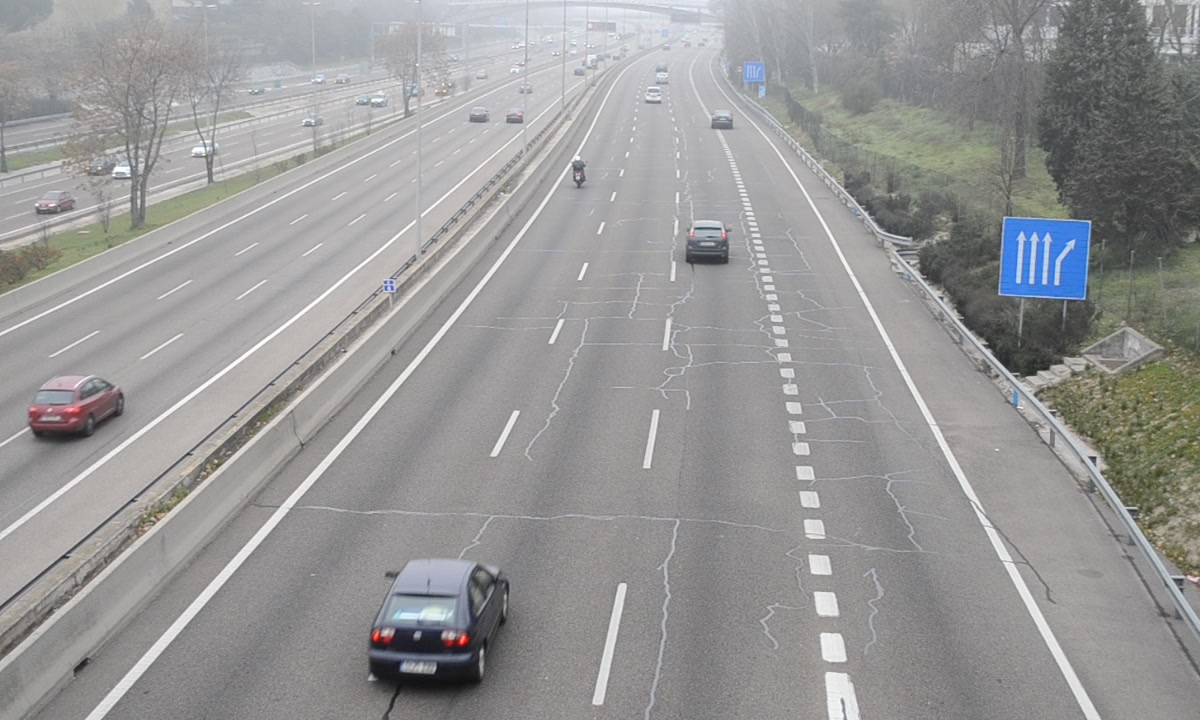car: (365, 559, 509, 689), (685, 220, 729, 262), (711, 110, 732, 130)
motorcycle: (570, 155, 588, 190)
